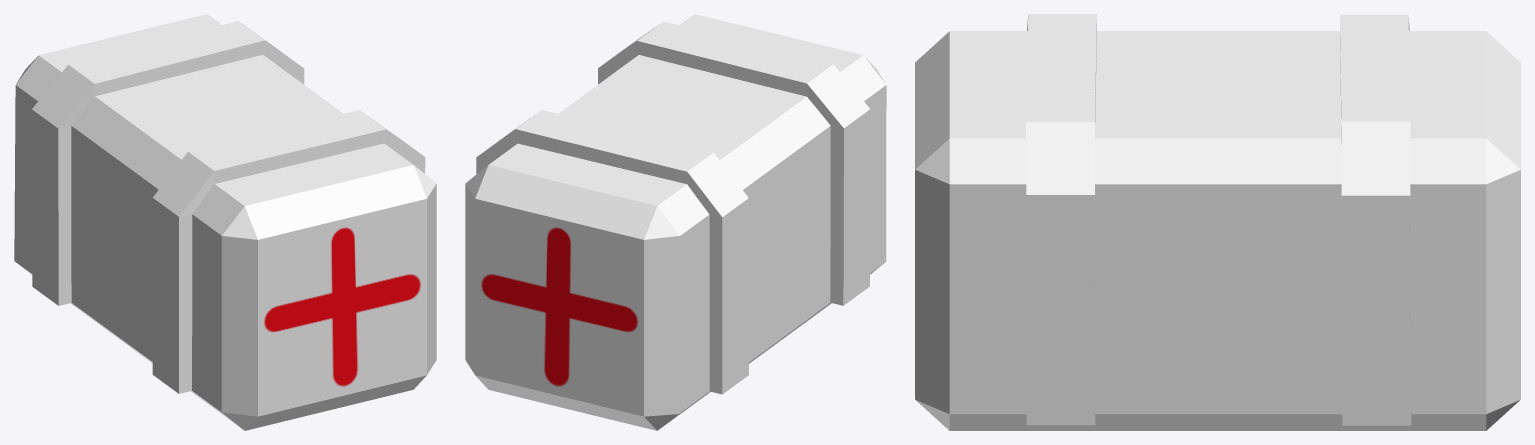
Rendered from medkit.glb.
The picture shows the model from 3 angles, left to right: view 1: azimuth 30°, elevation 25°; view 2: azimuth 150°, elevation 25°; view 3: azimuth 270°, elevation 25°; orthographic projection. The views are drawn at different scales.
Parts seen in each view (by area): view 1: Cube.001; view 2: Cube.001; view 3: Cube.001.
Boxes of the visible parts, box(x1,y1,x2,y2) form: Cube.001: box(14, 14, 436, 430); Cube.001: box(465, 14, 886, 430); Cube.001: box(915, 14, 1520, 430).
Bounding box in the file's own units: 0.5321 × 0.4924 × 0.8702.
1 material, 1 textured.
